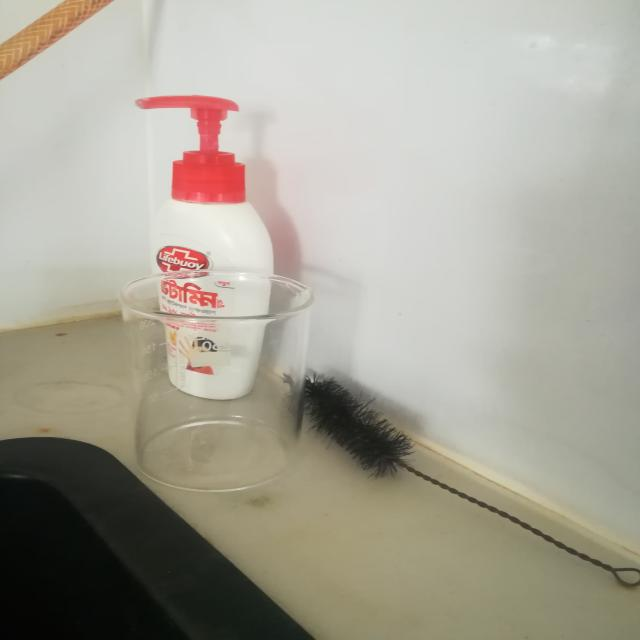Beaker: (78, 252, 332, 518)
